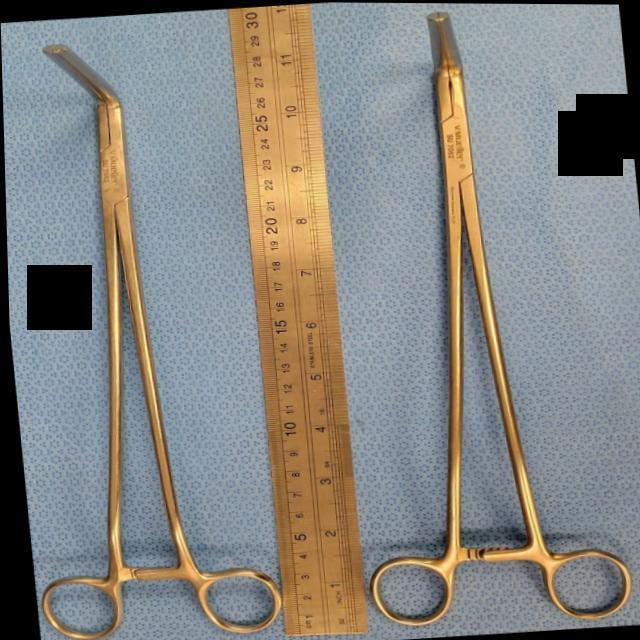Rectangle Cholecystectomy Forceps: (299, 2, 623, 636)
Right Angle Colon Clamp: (1, 30, 275, 640)
